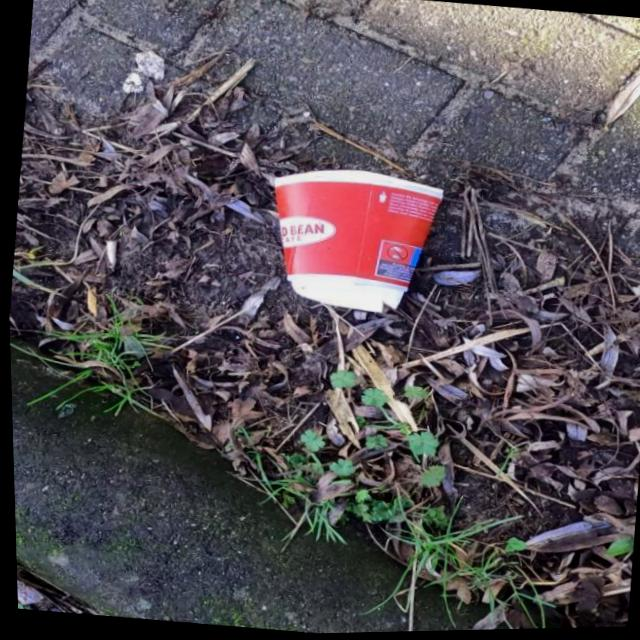Cup: (255, 159, 448, 325)
